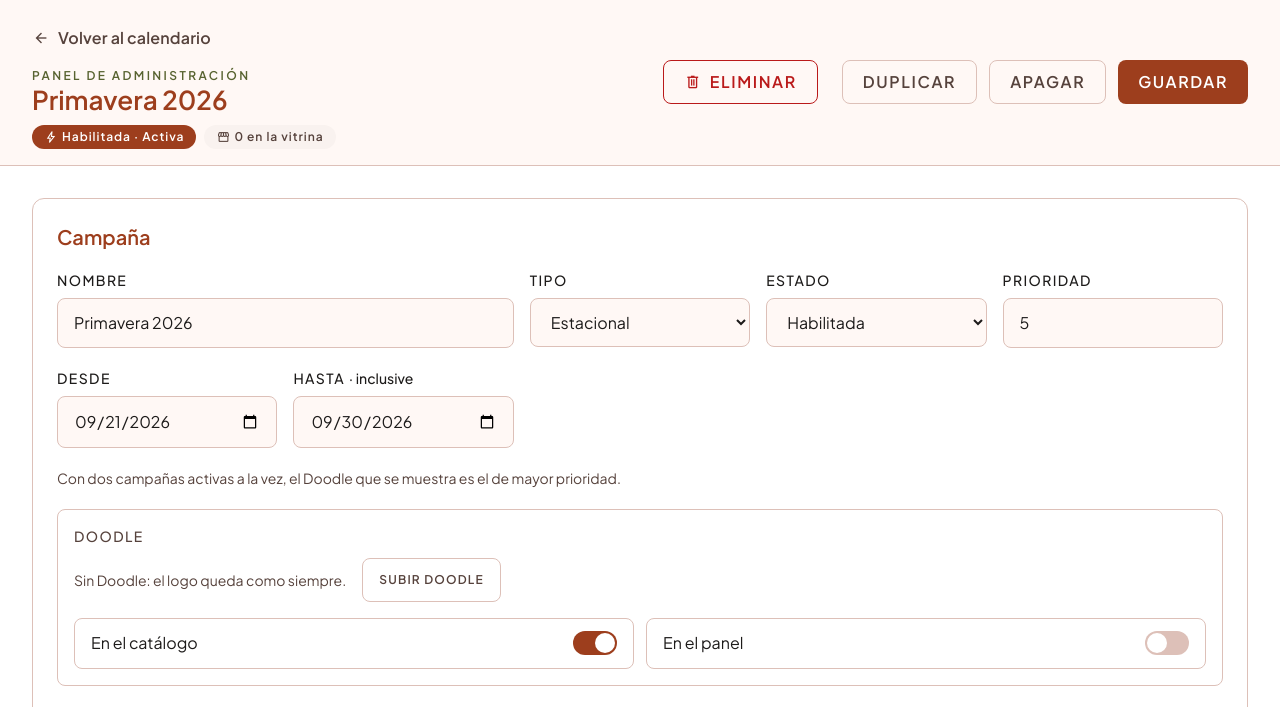
it: AdminCampaniaEditor — edición › si el borrado falla, el motivo se ve DENTRO del diálogo
This screenshot has width=1280, height=707.
Click the button "Eliminar". click: [740, 82]
box: [663, 60, 818, 104]
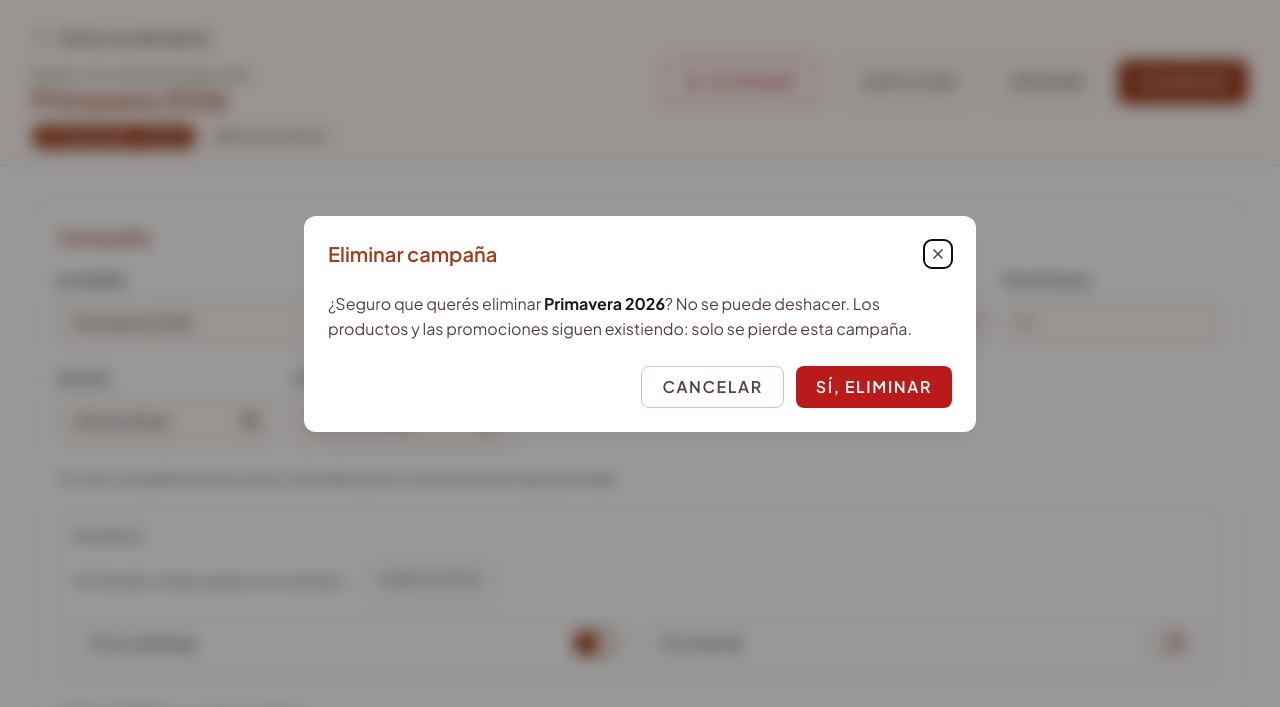
Click the button "Sí, eliminar". click: [874, 387]
box: [796, 366, 952, 408]
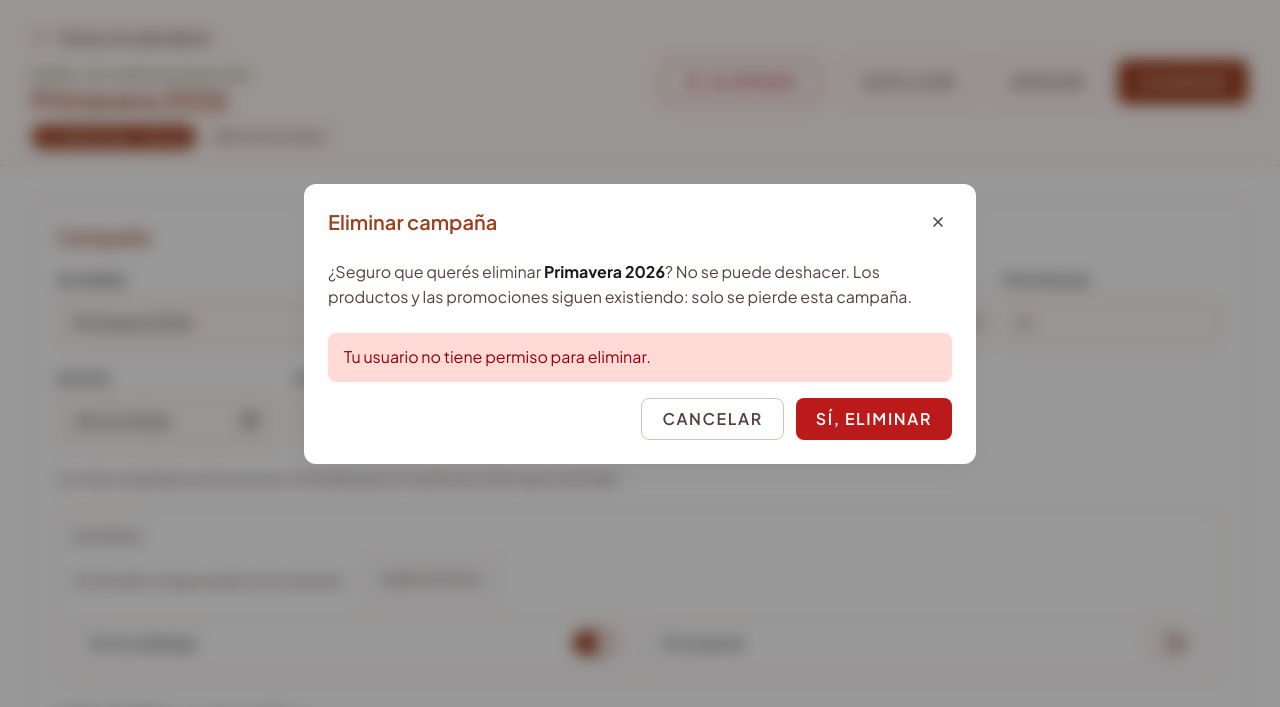
Expected: the text "Tu usuario no tiene permiso para eliminar." is shown, [328, 333, 952, 382]
